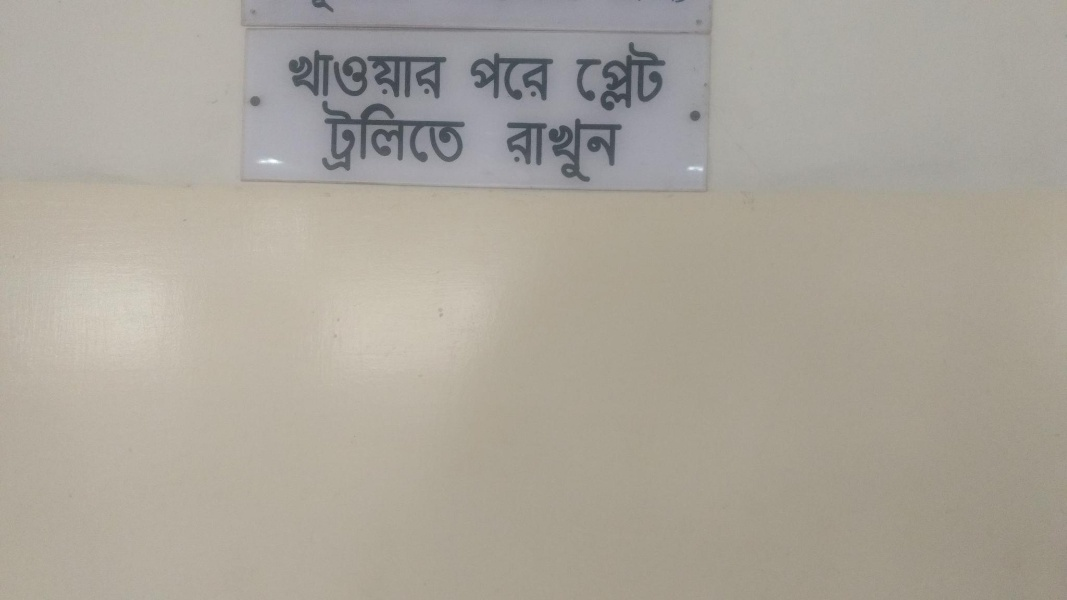text: (577, 37, 592, 119), (593, 37, 608, 119), (609, 37, 624, 119), (625, 37, 640, 119), (641, 37, 656, 119), (657, 37, 671, 119), (321, 101, 336, 174), (337, 101, 352, 174), (353, 101, 368, 174), (369, 101, 384, 174), (385, 101, 400, 174), (401, 101, 416, 174), (417, 101, 432, 174), (433, 101, 448, 174), (449, 101, 464, 174), (513, 117, 528, 183), (529, 117, 544, 183), (545, 117, 560, 183), (561, 117, 576, 183), (577, 117, 592, 183), (593, 117, 608, 183), (609, 117, 623, 183), (481, 52, 496, 112), (497, 52, 512, 112), (513, 52, 528, 112), (529, 52, 544, 112), (433, 49, 449, 101), (289, 49, 304, 101), (305, 49, 320, 101), (321, 49, 336, 101), (337, 49, 352, 101), (353, 49, 368, 101), (369, 49, 384, 101), (385, 49, 400, 101), (401, 49, 416, 101), (417, 49, 432, 101), (545, 52, 557, 112), (471, 52, 480, 112), (506, 117, 512, 183), (465, 101, 466, 174)
